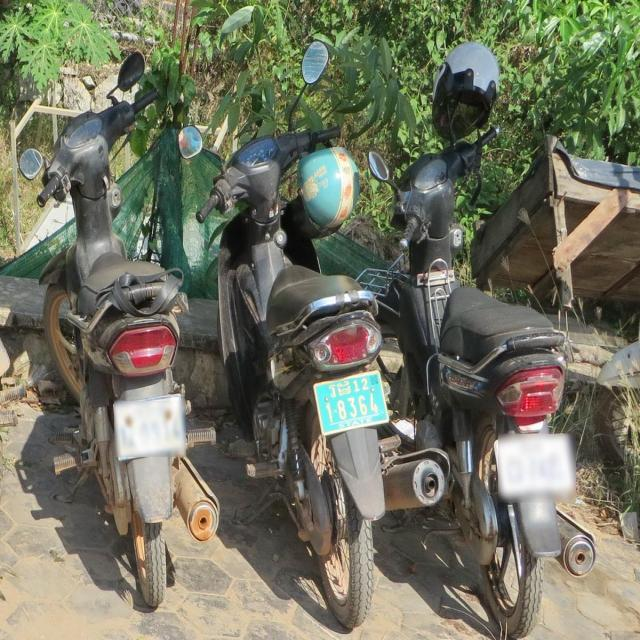State: (329, 380, 351, 398)
